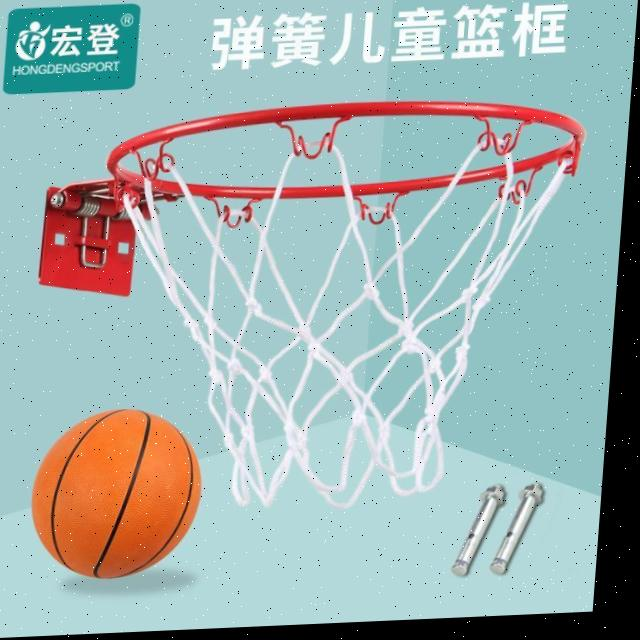basketball: (24, 405, 205, 583)
hoop: (84, 93, 591, 516)
